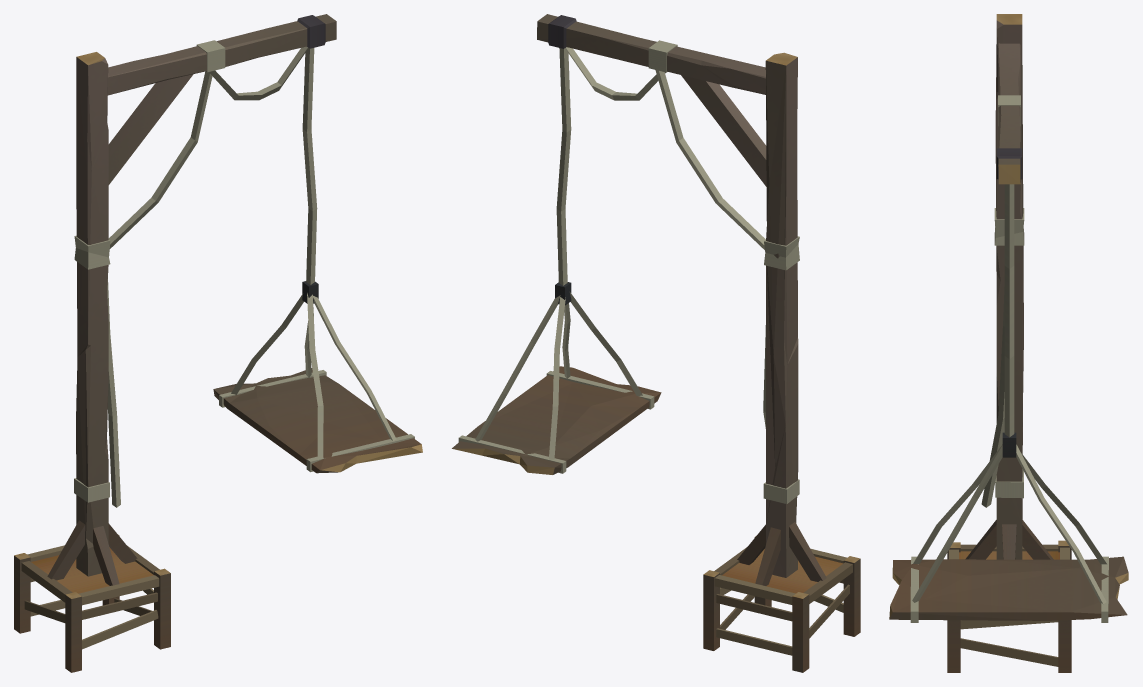
File: Crane_2.fbx
The picture shows the model from 3 angles, left to right: view 1: azimuth 30°, elevation 25°; view 2: azimuth 150°, elevation 25°; view 3: azimuth 270°, elevation 25°; orthographic projection. The views are drawn at different scales.
Visible parts, largest first — view 1: polySurface9800; view 2: polySurface9800; view 3: polySurface9800.
Part boxes in pixels (x1=…): polySurface9800: x1=14, y1=14, x2=422, y2=672; polySurface9800: x1=452, y1=14, x2=860, y2=672; polySurface9800: x1=889, y1=14, x2=1128, y2=672.
Size of the model in its own units: 368 by 626 by 216.
